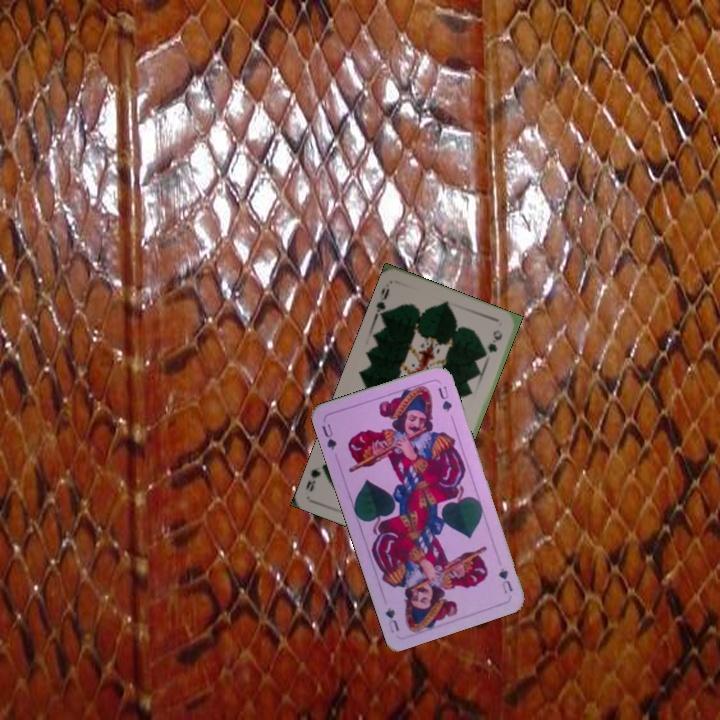G9: (371, 284, 392, 321)
GU: (318, 420, 339, 453), (494, 564, 515, 596)
